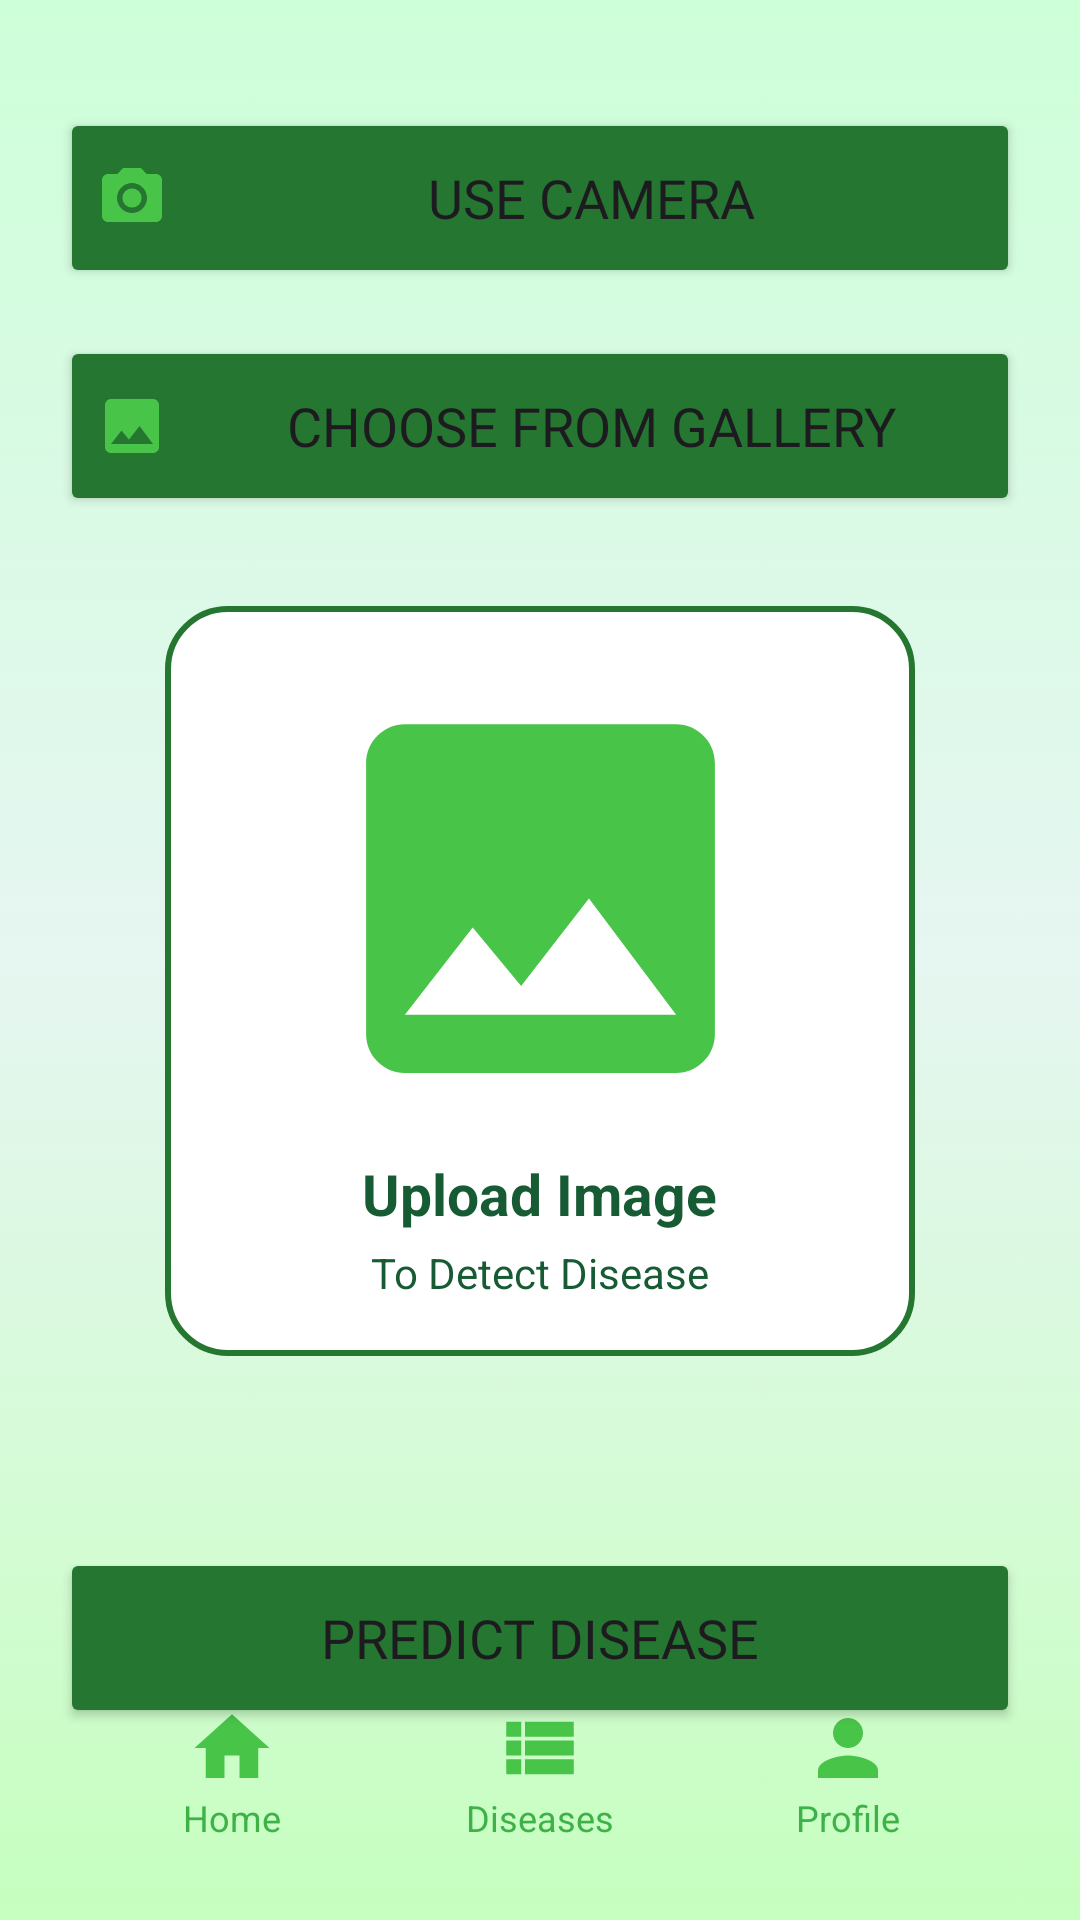

Icons on this 1080*1920 Android screen, each with the point to tap as (x,y):
person: (848,1748)
view list: (540,1748)
